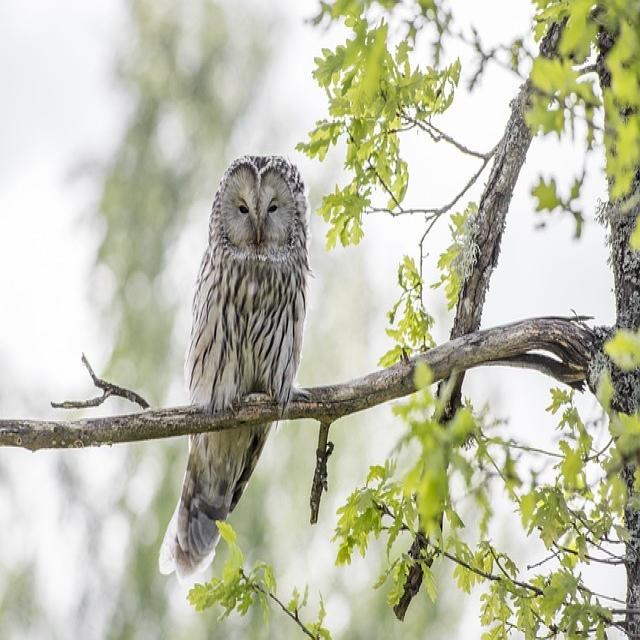Carnivorous: (187, 156, 313, 417), (158, 421, 273, 564)
